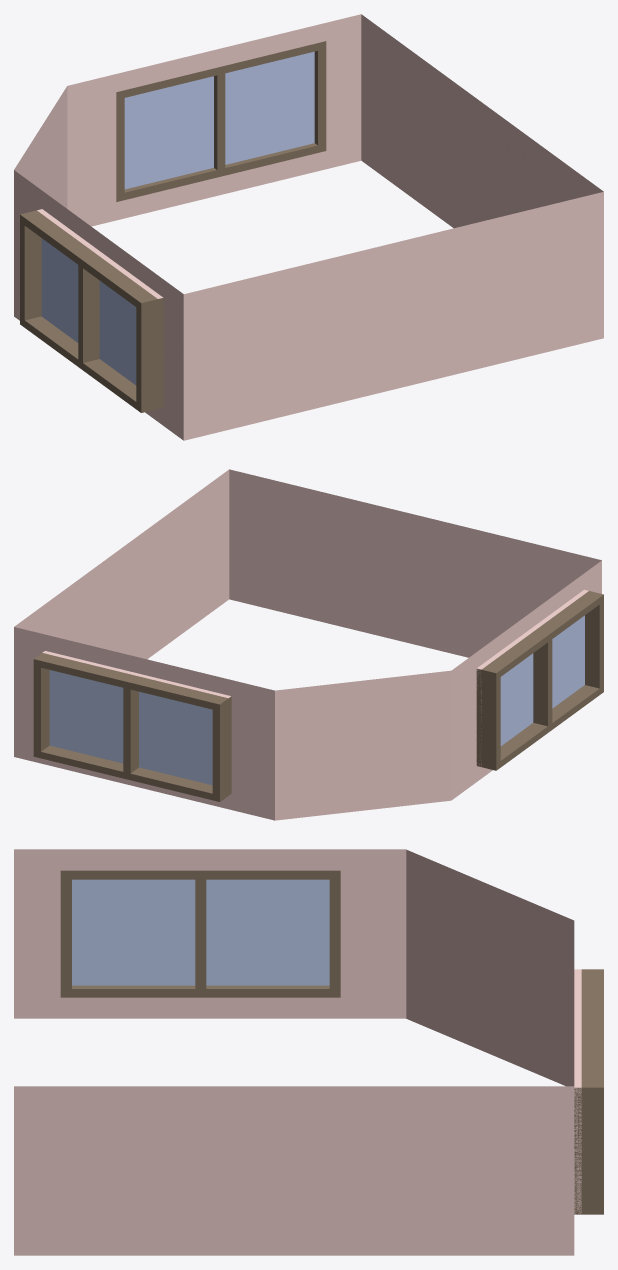
The model's file is CafeRoom.fbx.
The picture shows the model from 3 angles, top to bottom: view 1: azimuth 30°, elevation 25°; view 2: azimuth 150°, elevation 25°; view 3: azimuth 270°, elevation 25°; orthographic projection. The views are drawn at different scales.
Visible parts, largest first — view 1: polySurface1258; view 2: polySurface1258; view 3: polySurface1258.
Part boxes in pixels (<box>): polySurface1258: <box>14,14,603,440</box>; polySurface1258: <box>14,469,603,820</box>; polySurface1258: <box>14,849,603,1255</box>.
Size of the model in its own units: 1264 by 400 by 1264.
